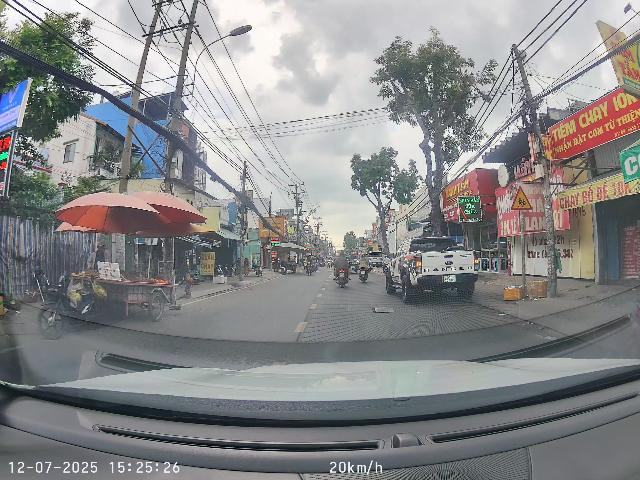225-chu-y-tre-em: (511, 186, 533, 210)
